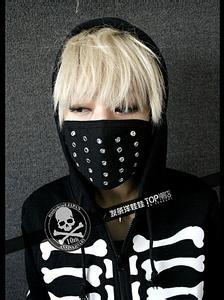OK: (61, 83, 155, 189)
